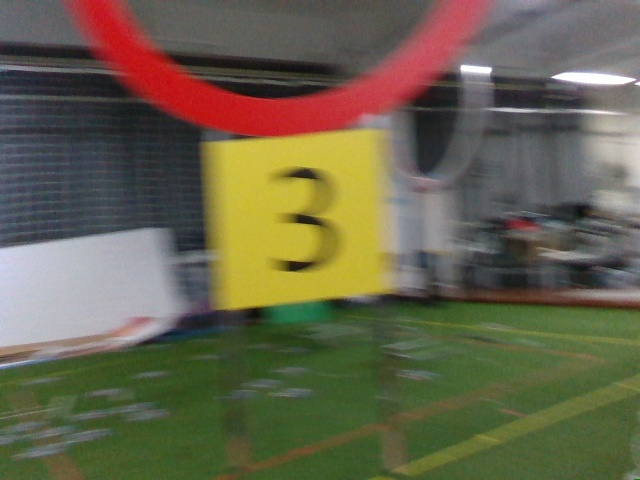target: (218, 144, 385, 296)
